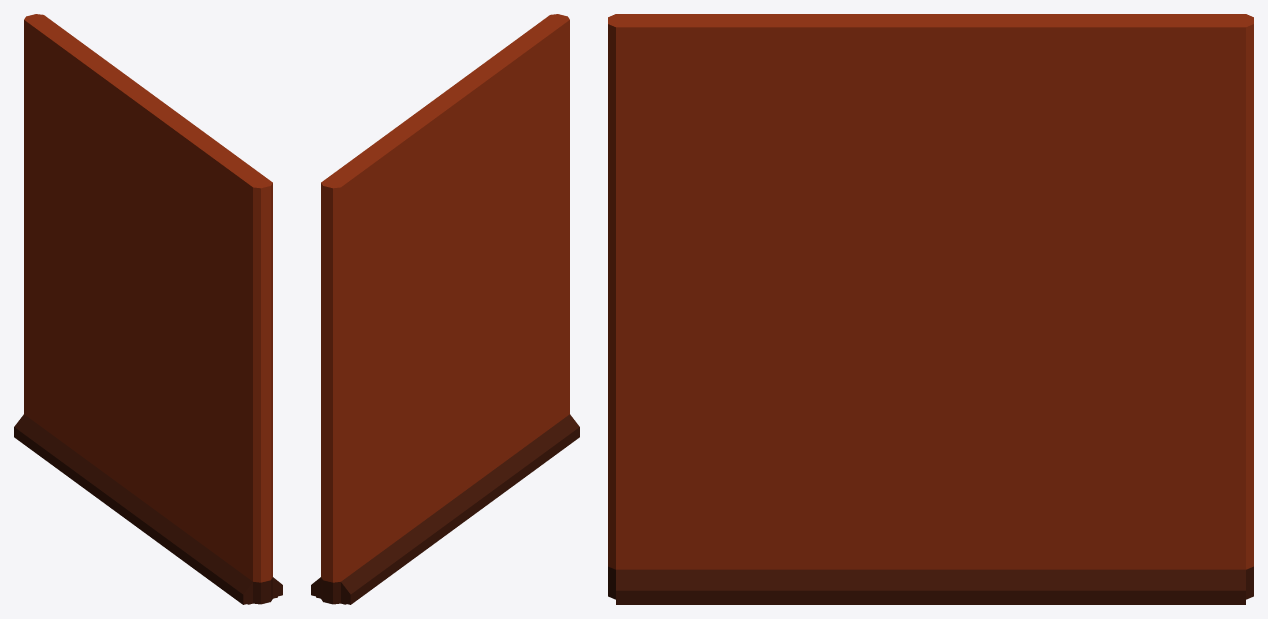
The model's file is Wall_2_0.fbx.
The picture shows the model from 3 angles, left to right: view 1: azimuth 30°, elevation 25°; view 2: azimuth 150°, elevation 25°; view 3: azimuth 270°, elevation 25°; orthographic projection. The views are drawn at different scales.
Parts seen in each view (by area): view 1: Wall/2_0; view 2: Wall/2_0; view 3: Wall/2_0.
Part boxes in pixels (x1=…): Wall/2_0: x1=14, y1=14, x2=282, y2=604; Wall/2_0: x1=311, y1=14, x2=579, y2=604; Wall/2_0: x1=608, y1=14, x2=1253, y2=604.
Bounding box in the file's own units: 0.4 × 4.1 × 4.01.
